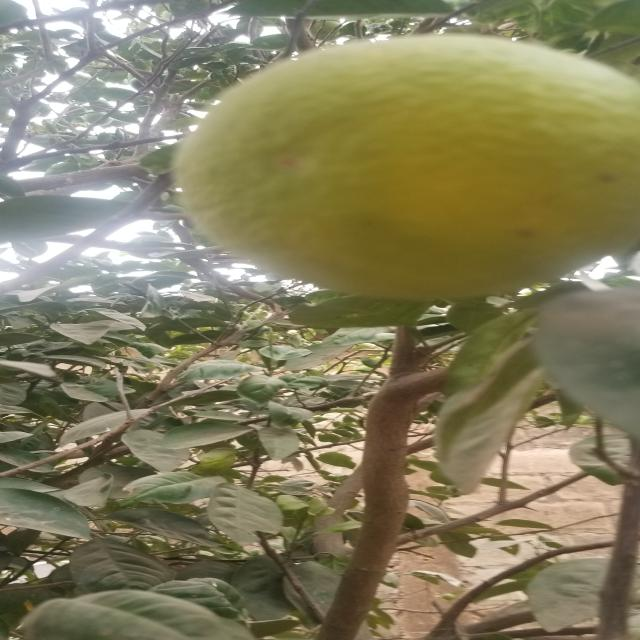Unripe: (153, 30, 640, 316)
